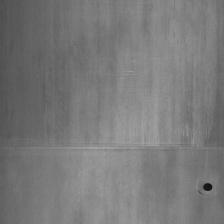punching_hole: (1, 136, 222, 156), (202, 179, 214, 193)
